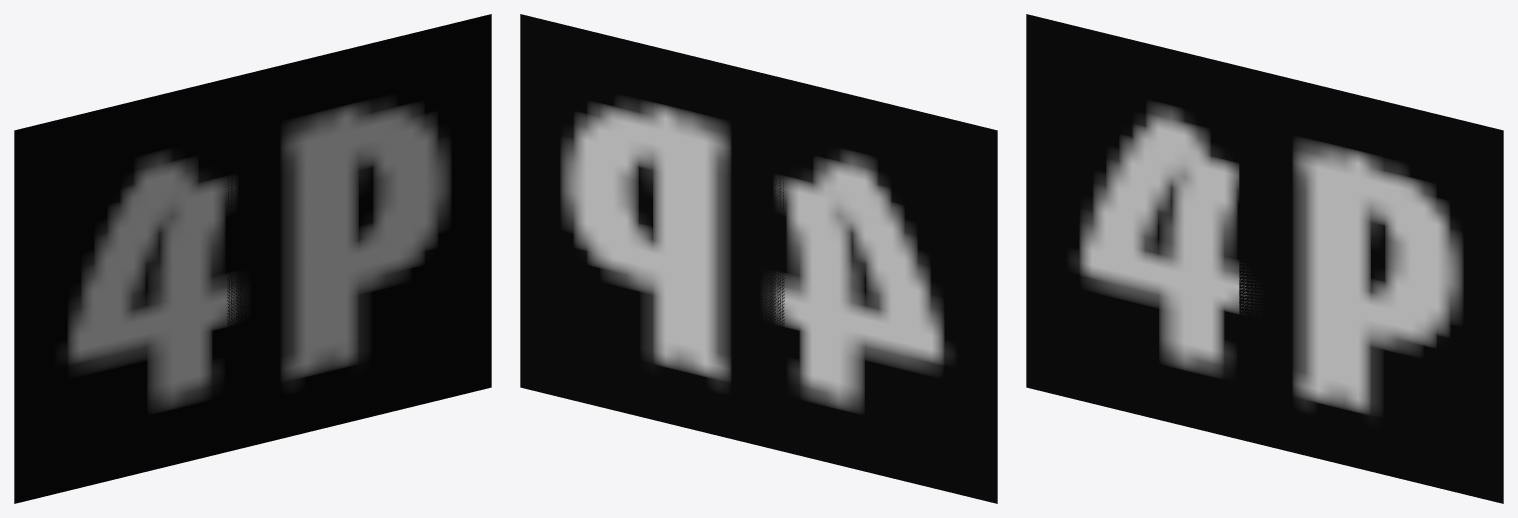
3 views of the same model, side by side, from view 1: azimuth 30°, elevation 25°; view 2: azimuth 150°, elevation 25°; view 3: azimuth 330°, elevation 25° (orthographic).
Parts seen in each view (by area): view 1: Joint_0_Object_0; view 2: Joint_0_Object_0; view 3: Joint_0_Object_0.
Part boxes in pixels (x1,y1,x2,y2): Joint_0_Object_0: [14, 14, 491, 503]; Joint_0_Object_0: [520, 14, 997, 503]; Joint_0_Object_0: [1026, 14, 1503, 503].
Bounding box in the file's own units: 24.26 × 18.14 × 0.
Materials: 1 (1 with a texture image).
